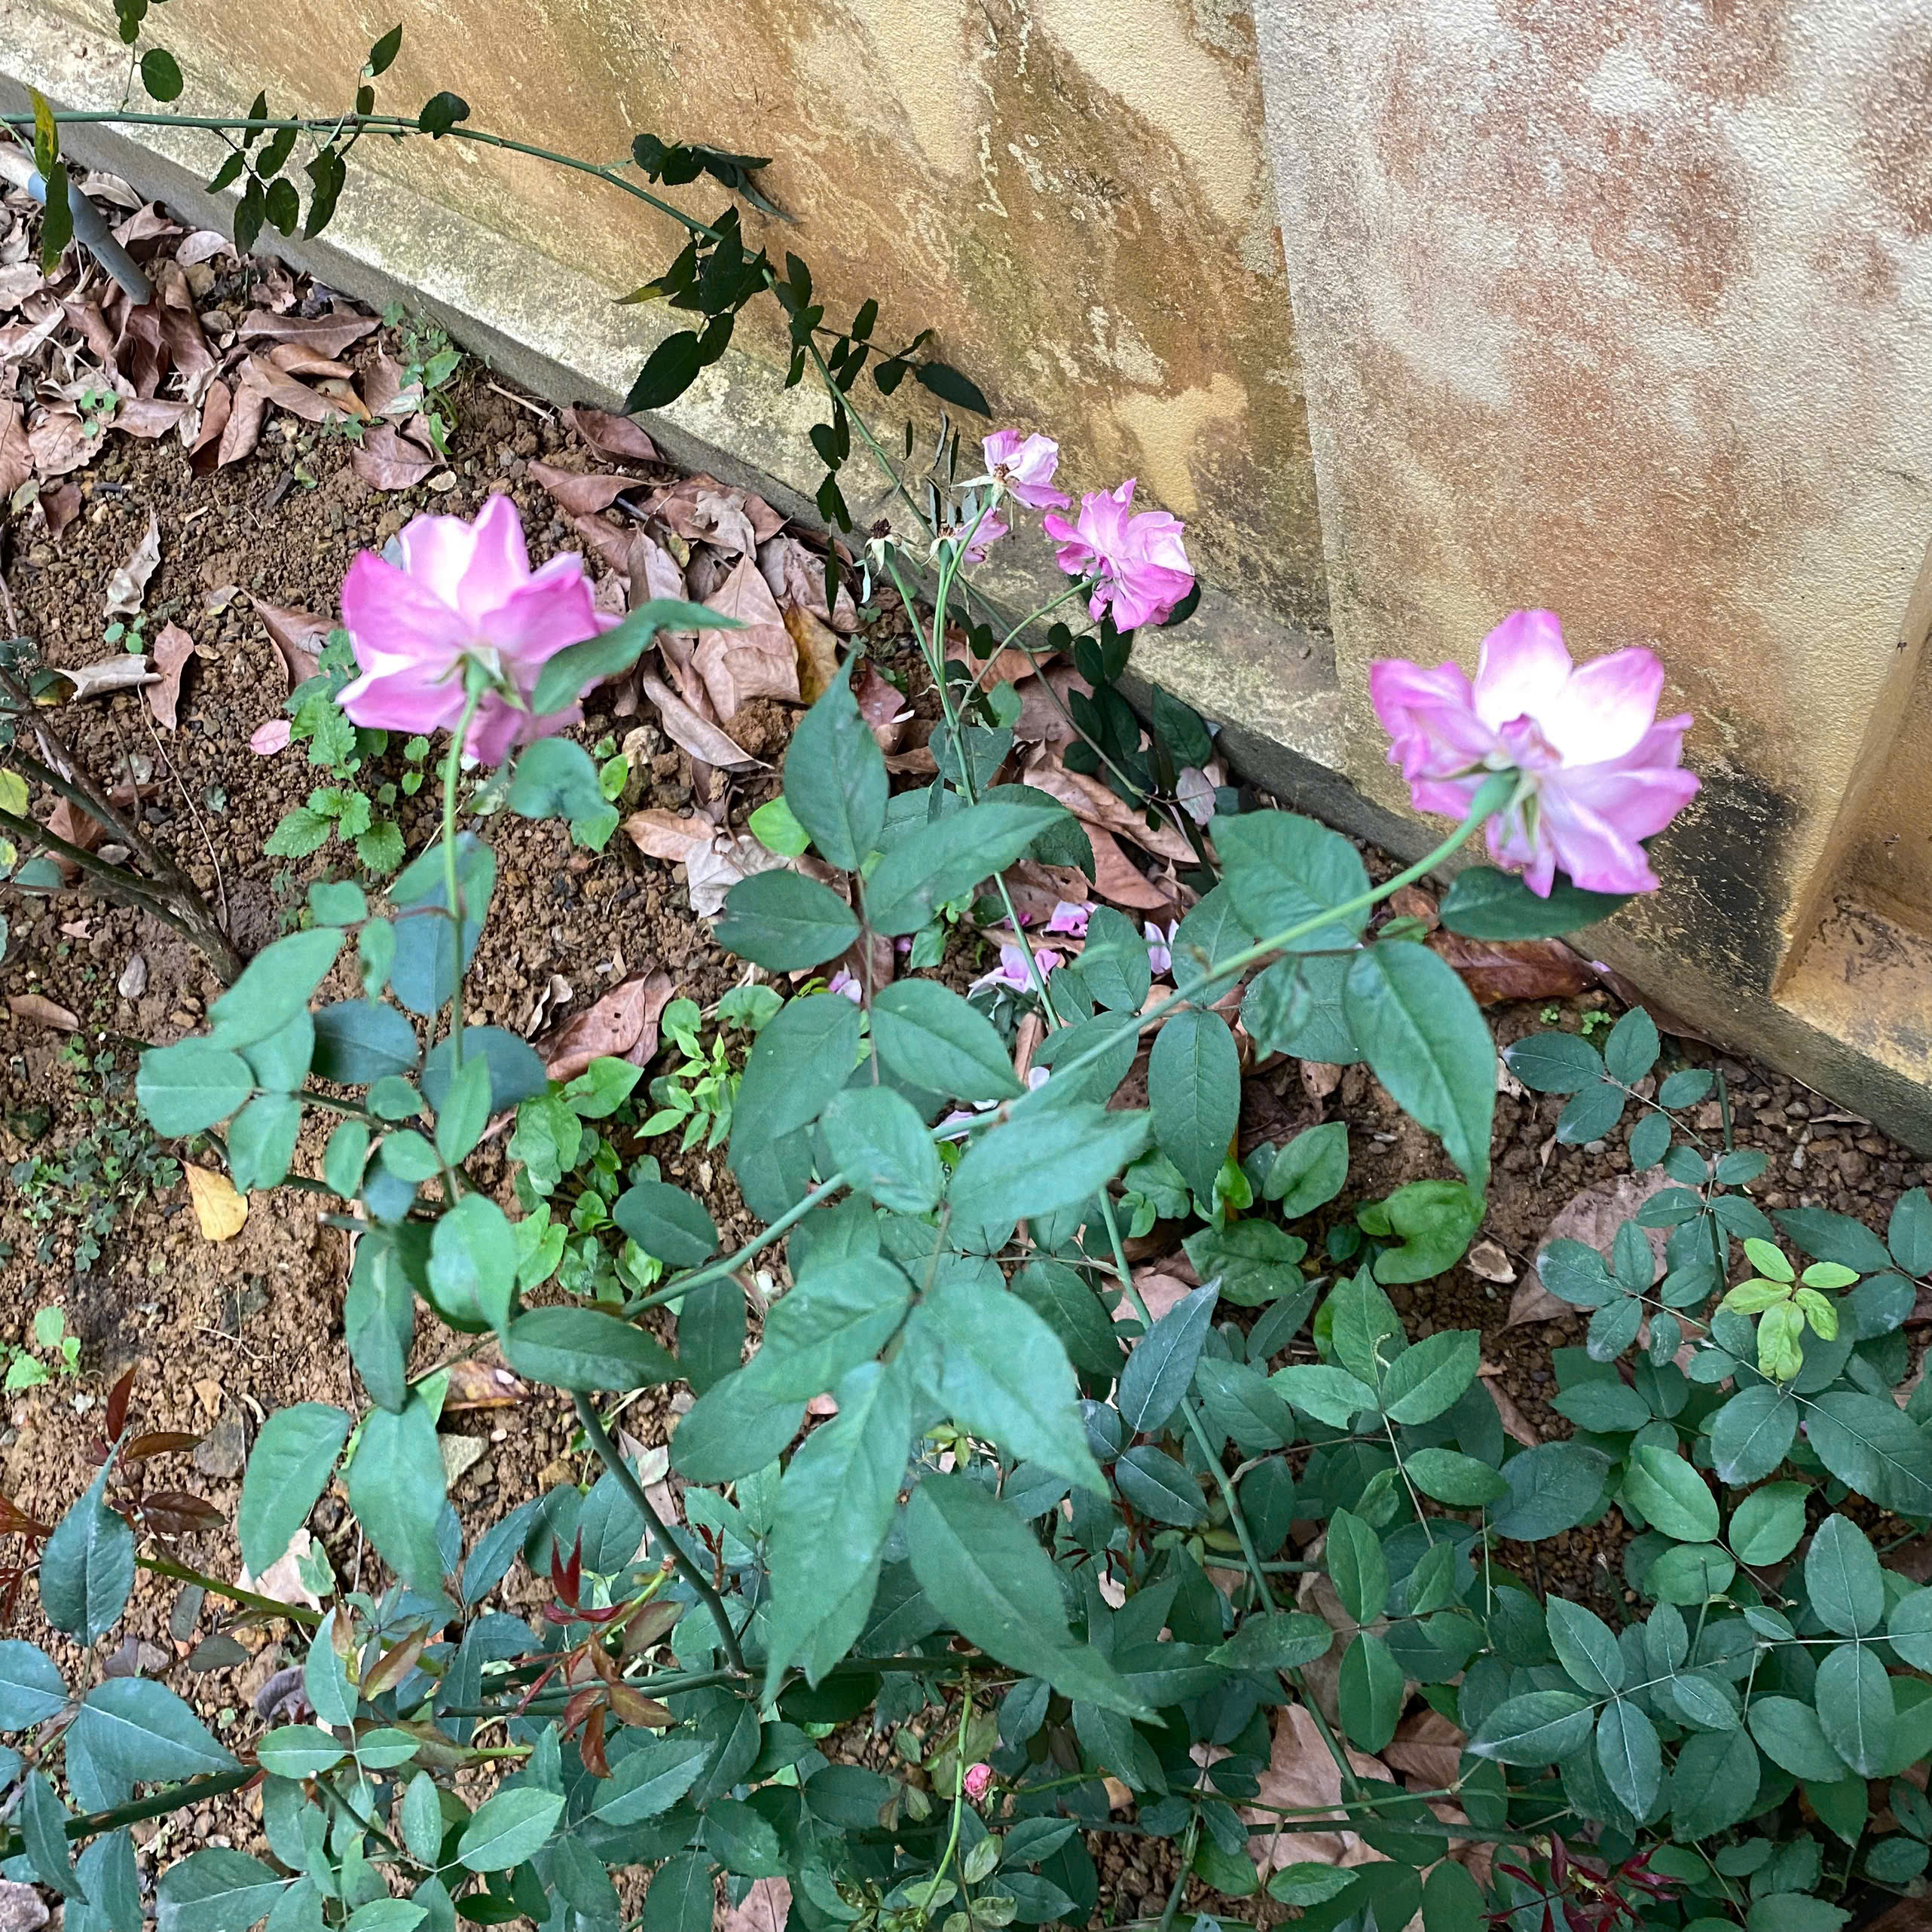hoa_hong_phan: (175, 363, 1845, 1932)
